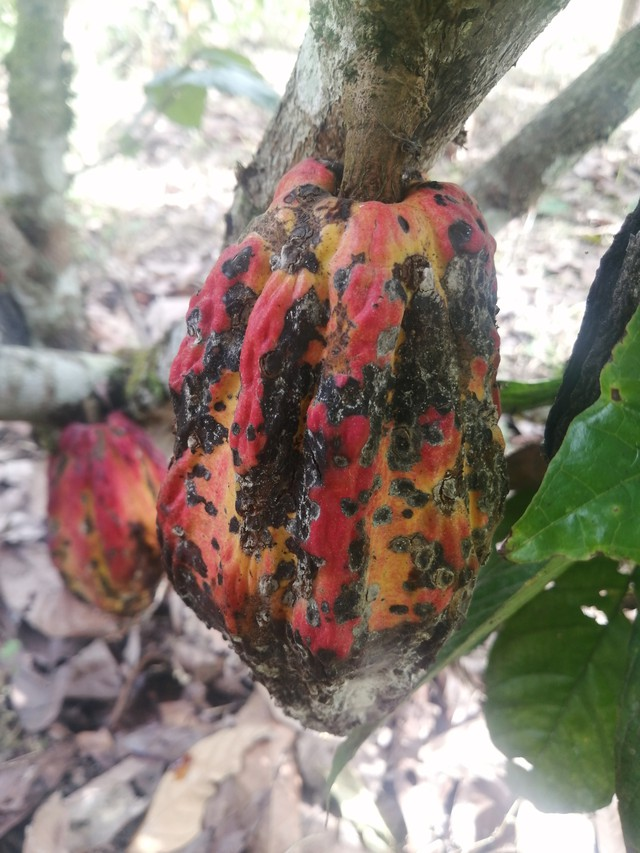moniliophthora roreri: (122, 137, 535, 751)
